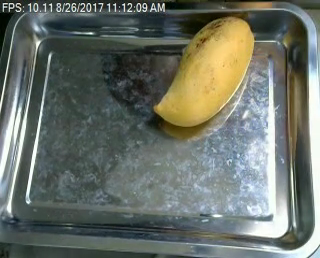Mango: (150, 11, 256, 134)
